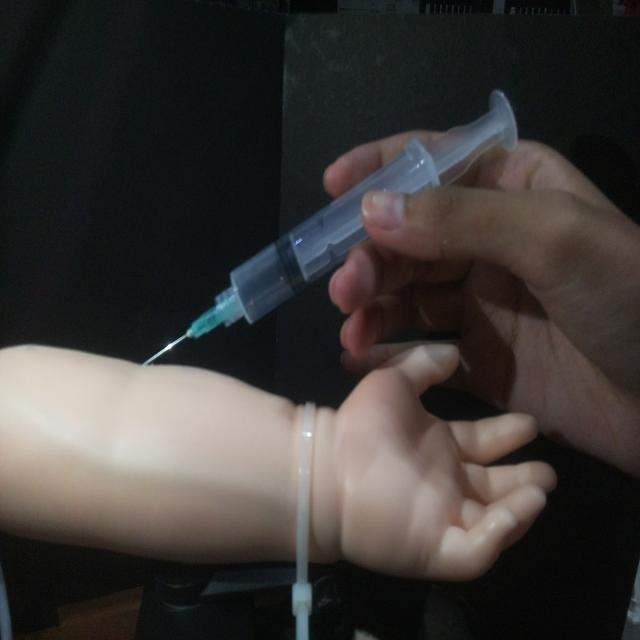28deg: (138, 84, 522, 370)
